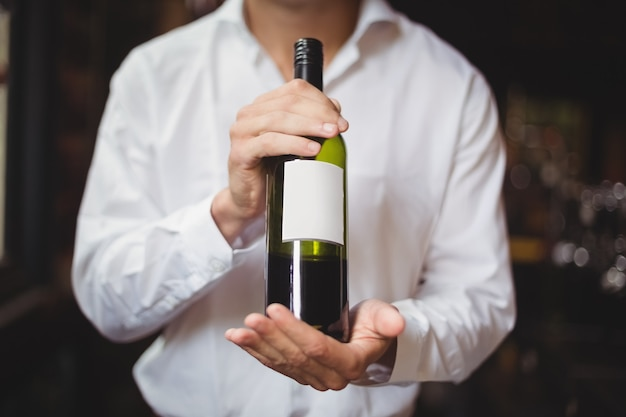alcohol: (265, 33, 351, 345)
